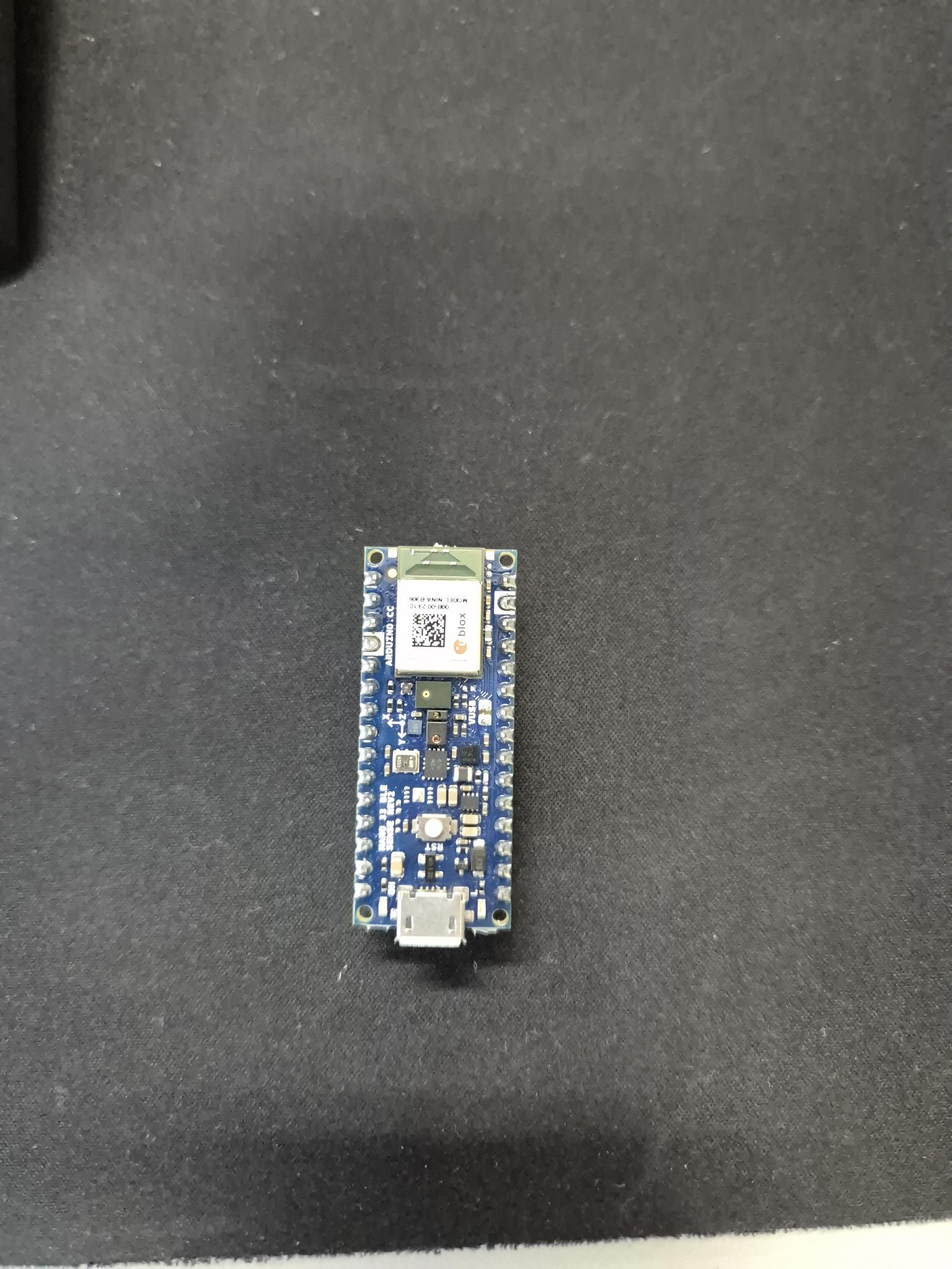arduino-nano-ble-sense: (353, 543, 518, 954)
